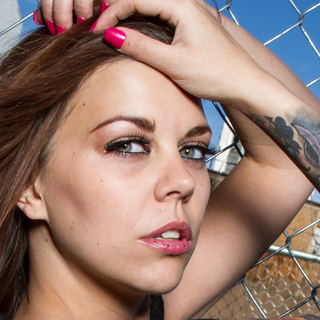eye: (103, 132, 155, 161), (176, 139, 212, 164)
